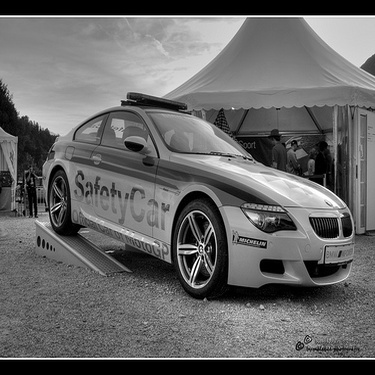car: (31, 79, 360, 297)
